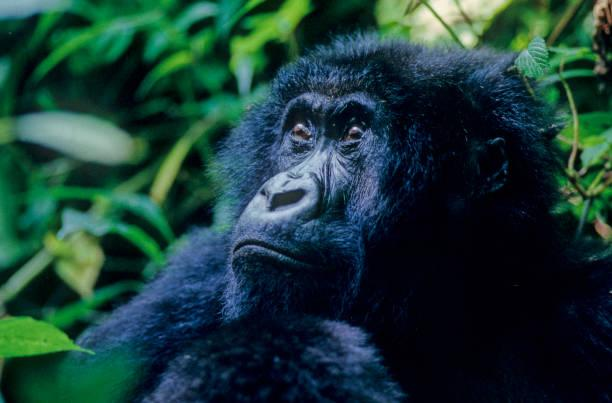gorille_Autres: (118, 2, 612, 403)
